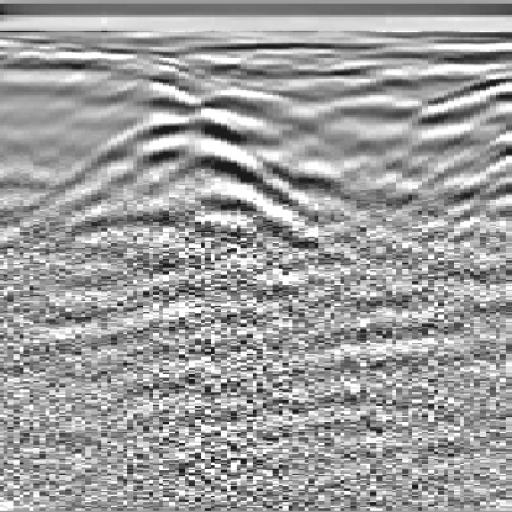metalic: (105, 56, 299, 284)
